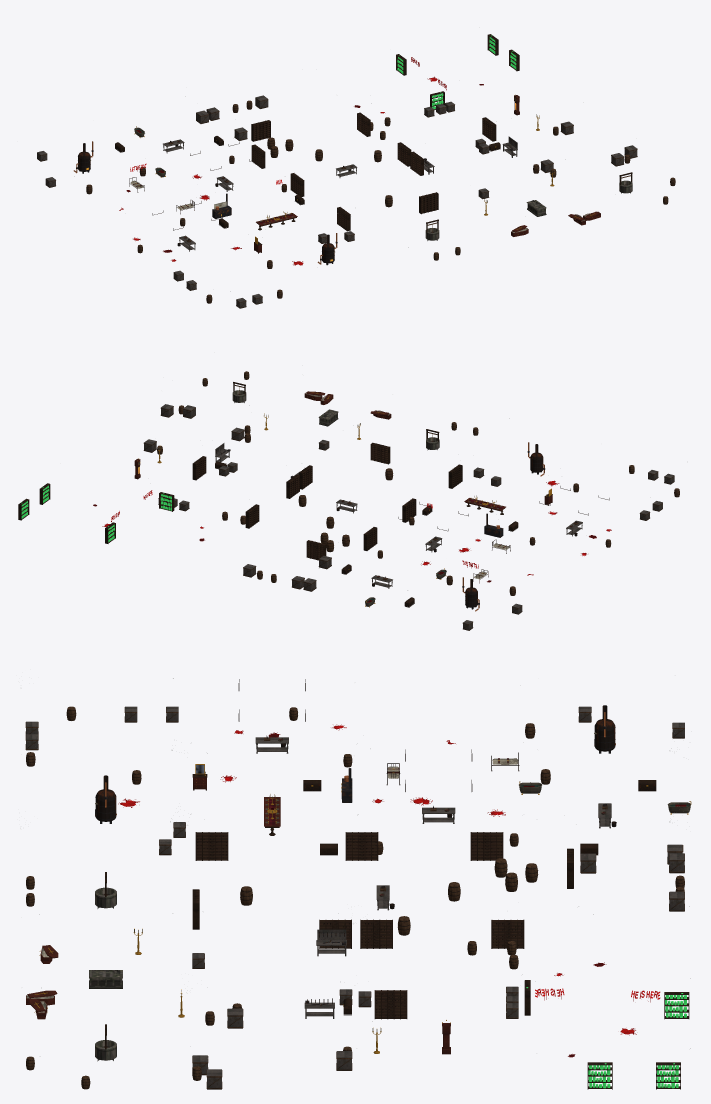
Rendered from manor_furn_b1.glb.
3 renders of one model, top to bottom at view 1: azimuth 30°, elevation 25°; view 2: azimuth 150°, elevation 25°; view 3: azimuth 270°, elevation 25°, orthographic. The views are drawn at different scales.
Parts seen in each view (by area): view 1: manor_furn_b1; view 2: manor_furn_b1; view 3: manor_furn_b1.
Part boxes in pixels (<box>): manor_furn_b1: <box>37,27,675,308</box>; manor_furn_b1: <box>18,352,679,630</box>; manor_furn_b1: <box>20,678,691,1089</box>.
Size of the model in its own units: 65.24 by 4.75 by 49.27.
Materials: 43 (43 with a texture image).
